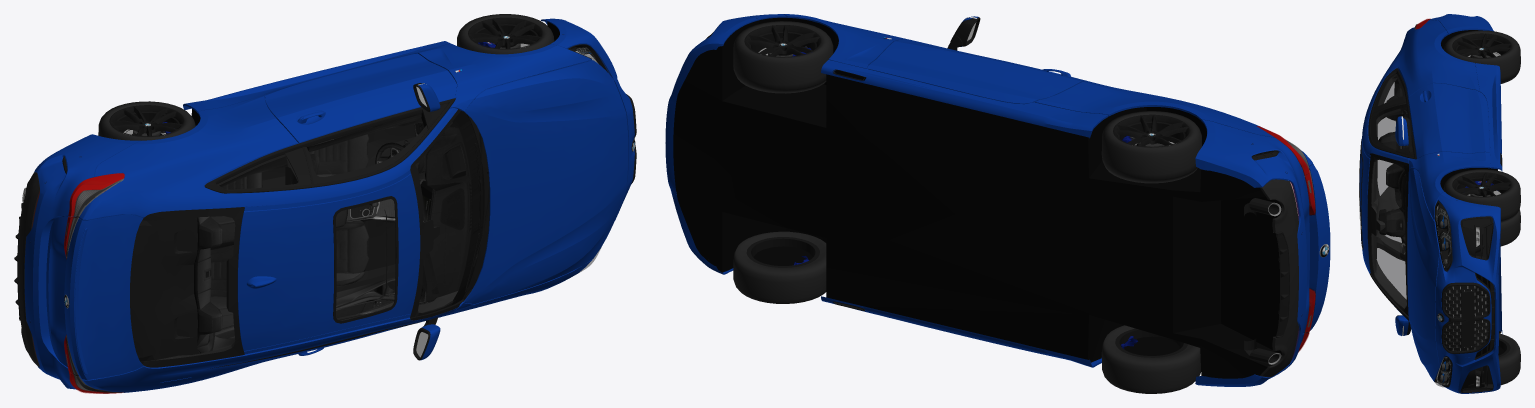
The picture shows the model from 3 angles, left to right: view 1: azimuth 30°, elevation 25°; view 2: azimuth 150°, elevation 25°; view 3: azimuth 270°, elevation 25°; orthographic projection. The views are drawn at different scales.
Parts seen in each view (by area): view 1: body_mesh, wheel_FL_mesh, wheel_RL_mesh; view 2: body_mesh, wheel_RL_mesh, wheel_FL_mesh, wheel_FR_mesh, wheel_RR_mesh; view 3: body_mesh, wheel_FL_mesh, wheel_RL_mesh, wheel_FR_mesh, wheel_RR_mesh.
Boxes of the visible parts, left/top/right/bottom form: body_mesh: left=14, top=18, right=636, bottom=393; wheel_FL_mesh: left=457, top=14, right=554, bottom=54; wheel_RL_mesh: left=98, top=101, right=195, bottom=140; body_mesh: left=665, top=14, right=1330, bottom=386; wheel_RL_mesh: left=1101, top=111, right=1201, bottom=183; wheel_FL_mesh: left=733, top=21, right=833, bottom=93; wheel_FR_mesh: left=733, top=231, right=826, bottom=303; wheel_RR_mesh: left=1101, top=325, right=1200, bottom=393; body_mesh: left=1359, top=14, right=1502, bottom=393; wheel_FL_mesh: left=1443, top=169, right=1520, bottom=222; wheel_RL_mesh: left=1443, top=30, right=1520, bottom=83; wheel_FR_mesh: left=1498, top=333, right=1520, bottom=385; wheel_RR_mesh: left=1500, top=209, right=1520, bottom=246.
Bounding box in the file's own units: 4.77 × 2.08 × 1.4.
Materials: 36 (11 with a texture image).
